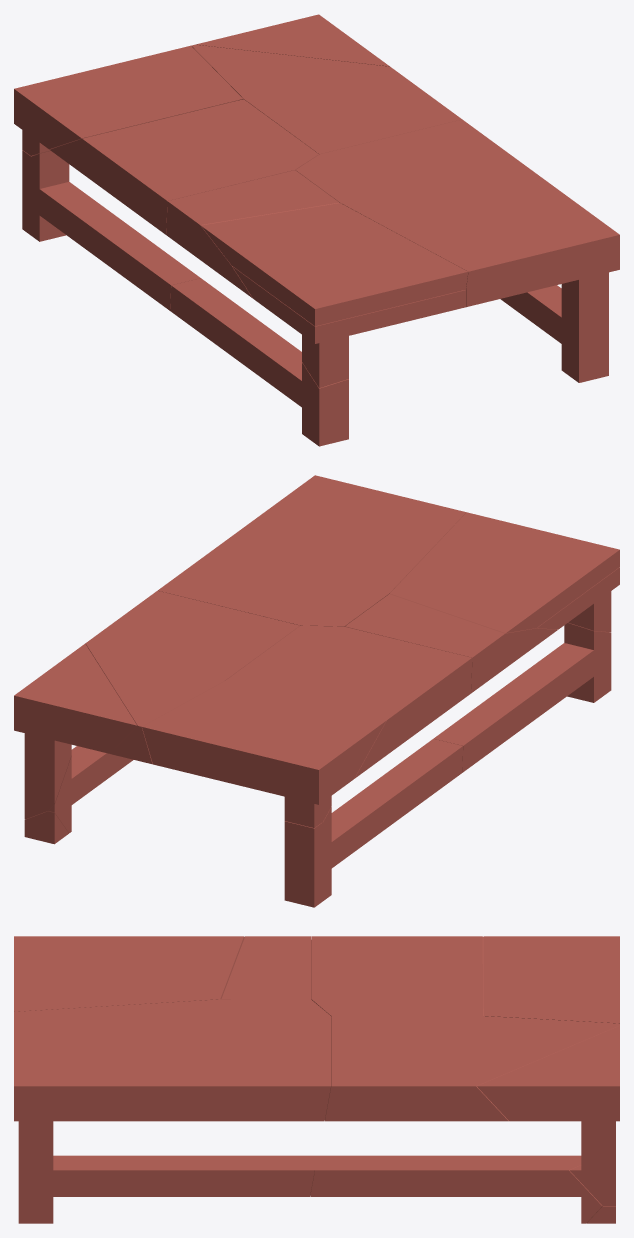
File: CoffeeTableShatter.fbx
3 renders of one model, top to bottom at view 1: azimuth 30°, elevation 25°; view 2: azimuth 150°, elevation 25°; view 3: azimuth 270°, elevation 25°, orthographic.
Visible parts, largest first — view 1: Cube.000_cell.005, Cube.000_cell.009, Cube.000_cell.002, Cube.000_cell.003, Cube.000_cell.004, Cube.000_cell.012, Cube.000_cell.010, Cube.000_cell.008, Cube.000_cell, Cube.000_cell.001, Cube.000_cell.006; view 2: Cube.000_cell.005, Cube.000_cell.004, Cube.000_cell.002, Cube.000_cell.009, Cube.000_cell.003, Cube.000_cell.001, Cube.000_cell.012, Cube.000_cell.010, Cube.000_cell.008, Cube.000_cell.006, Cube.000_cell.011, Cube.000_cell (+1 smaller); view 3: Cube.000_cell.005, Cube.000_cell.003, Cube.000_cell.009, Cube.000_cell.002, Cube.000_cell.001, Cube.000_cell.011, Cube.000_cell.004, Cube.000_cell.008.
Boxes of the visible parts, box(x1,y1,x2,y2) form: Cube.000_cell.005: box(295, 119, 619, 382); Cube.000_cell.009: box(201, 203, 468, 326); Cube.000_cell.002: box(50, 99, 318, 234); Cube.000_cell.003: box(191, 44, 461, 154); Cube.000_cell.004: box(14, 45, 242, 155); Cube.000_cell.012: box(170, 278, 348, 446); Cube.000_cell.010: box(31, 151, 200, 310); Cube.000_cell.008: box(166, 170, 339, 298); Cube.000_cell: box(232, 266, 465, 388); Cube.000_cell.001: box(196, 14, 389, 66); Cube.000_cell.006: box(22, 150, 33, 235); Cube.000_cell.005: box(158, 475, 466, 626); Cube.000_cell.004: box(142, 681, 386, 827); Cube.000_cell.002: box(225, 625, 472, 778); Cube.000_cell.009: box(390, 512, 619, 633); Cube.000_cell.003: box(85, 590, 299, 764); Cube.000_cell.001: box(14, 644, 137, 819); Cube.000_cell.012: box(433, 622, 611, 772); Cube.000_cell.010: box(323, 739, 462, 900); Cube.000_cell.008: box(345, 593, 557, 692); Cube.000_cell.006: box(284, 821, 322, 907); Cube.000_cell.011: box(46, 746, 133, 833); Cube.000_cell: box(537, 567, 619, 632); Cube.000_cell.005: box(14, 999, 330, 1223); Cube.000_cell.003: box(325, 1016, 619, 1121); Cube.000_cell.009: box(14, 936, 243, 1011); Cube.000_cell.002: box(311, 936, 483, 1017); Cube.000_cell.001: box(477, 1025, 619, 1205); Cube.000_cell.011: box(310, 1155, 602, 1223); Cube.000_cell.004: box(483, 936, 619, 1023); Cube.000_cell.008: box(220, 936, 311, 999).
Bounding box in the file's own units: 174 × 76.56 × 297.
